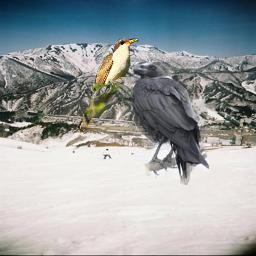Crow: (131, 62, 209, 185)
Cuckoo: (75, 36, 140, 135)
